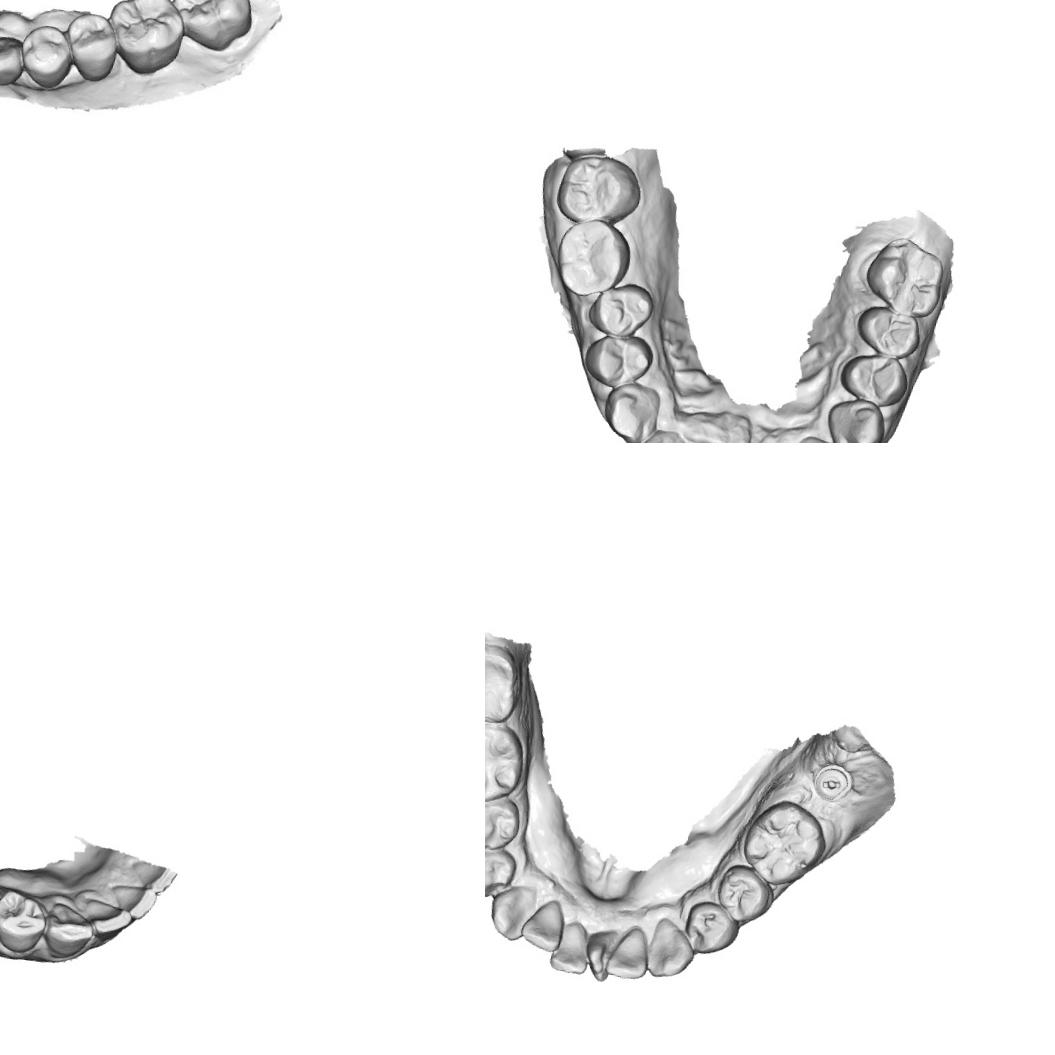canine: (599, 378, 662, 443), (40, 900, 98, 965), (644, 915, 700, 982), (486, 880, 540, 945), (822, 394, 890, 443), (0, 31, 27, 89)
implant_minus: (809, 760, 858, 806)
incisor: (516, 894, 568, 955), (80, 894, 140, 944), (604, 922, 652, 982), (547, 916, 594, 976), (106, 879, 160, 924), (581, 926, 620, 985), (125, 862, 179, 896), (633, 426, 690, 443)
molar: (737, 795, 831, 892), (860, 232, 950, 320), (552, 148, 645, 232), (552, 214, 636, 303), (101, 0, 189, 80), (166, 0, 259, 55), (485, 714, 531, 810), (485, 636, 527, 731)
premolar: (580, 329, 656, 394), (836, 348, 911, 412), (60, 10, 122, 84), (584, 278, 656, 341), (852, 302, 925, 363), (712, 862, 778, 928), (16, 21, 77, 91), (681, 897, 743, 959), (0, 887, 51, 958), (485, 789, 524, 856), (485, 842, 518, 901)
